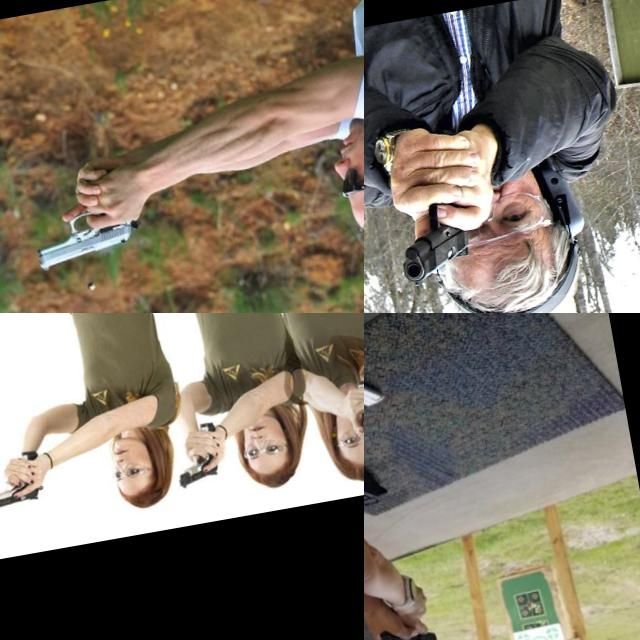handgun: (385, 182, 478, 290), (27, 200, 148, 274), (172, 448, 223, 492), (0, 472, 47, 515), (375, 620, 441, 640), (352, 405, 364, 444)
